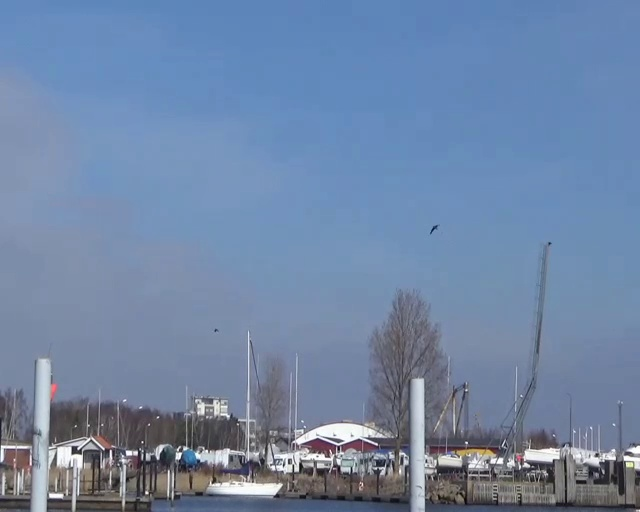BIRD: (429, 224, 439, 234)
